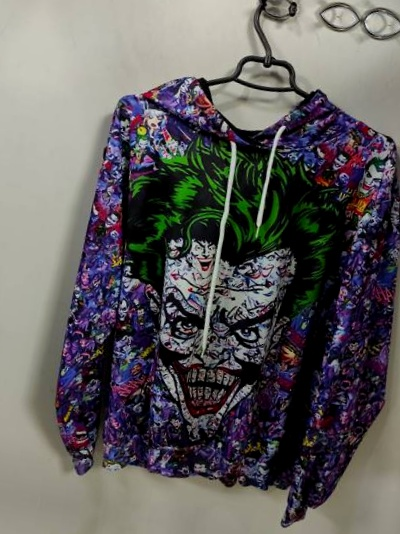Hoodie: (16, 21, 400, 514)
